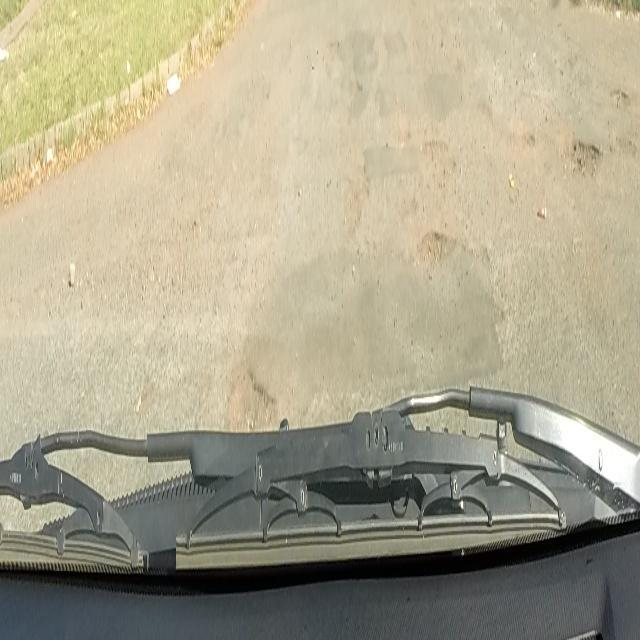pothole: (511, 126, 601, 183), (223, 357, 274, 434), (414, 218, 458, 279), (610, 82, 628, 111)
